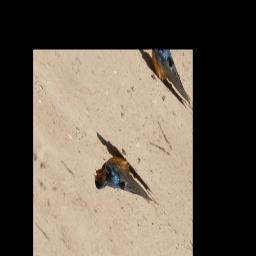Swallow: (90, 140, 161, 245)
